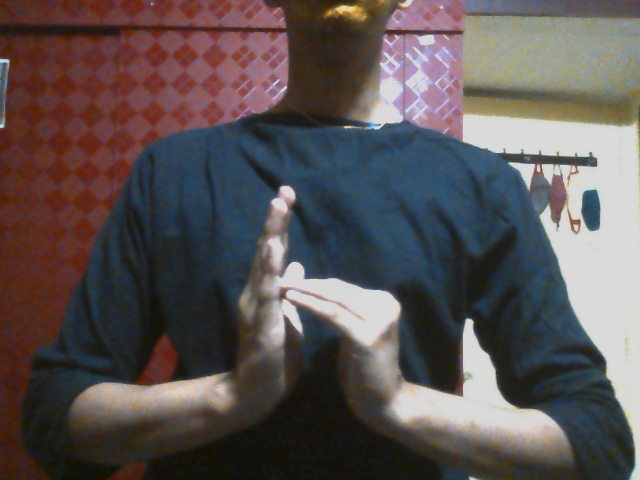Z: (208, 181, 414, 440)
